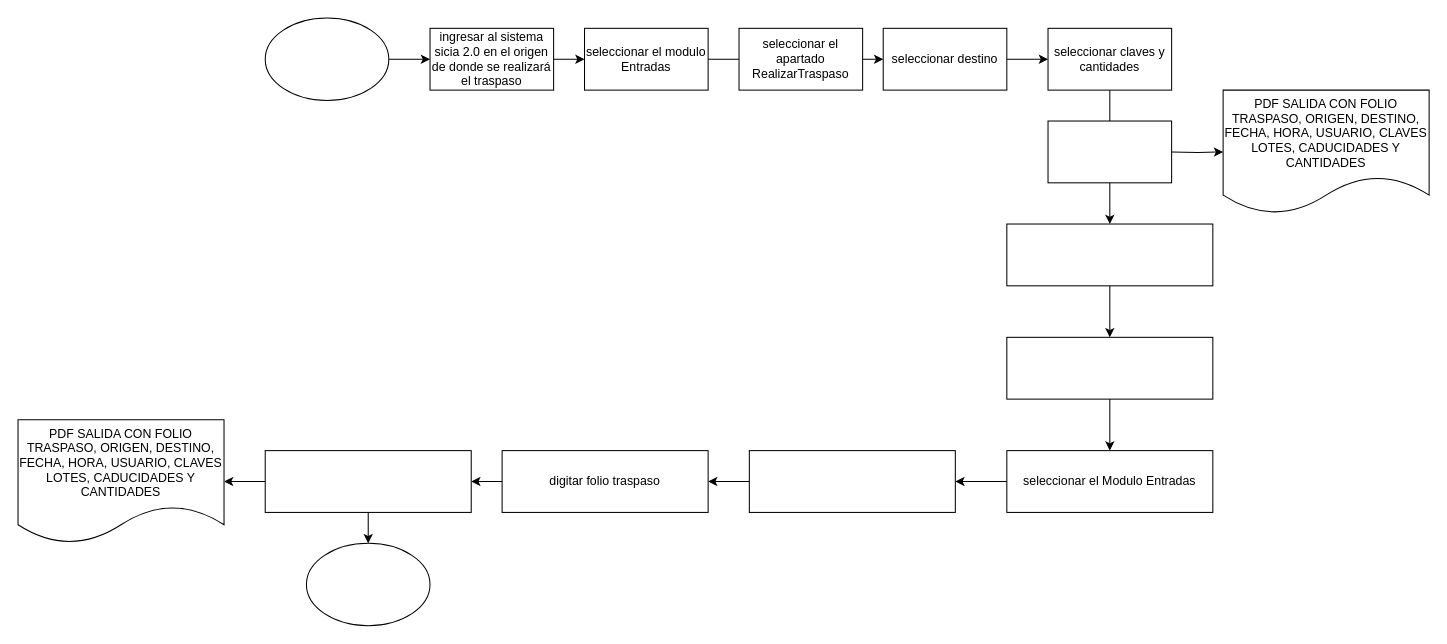
The diagram is 1447 pixels wide and 644 high, and some of its shapes have lost their labels. Each missing label, with the centre of its shape:
ingresar al sistema sicia 2.0 en el destino donde se ingresará el traspaso.: (x=1109, y=367)
realizar entrada por traspaso: (x=367, y=481)
realizar salida por traspaso: (x=1109, y=151)
salir del sistema sicia 2.0 en el origen(empresa/negocio/almacén actual): (x=1109, y=254)
seleccionar el apartado de Entrada por traspaso: (x=851, y=481)
